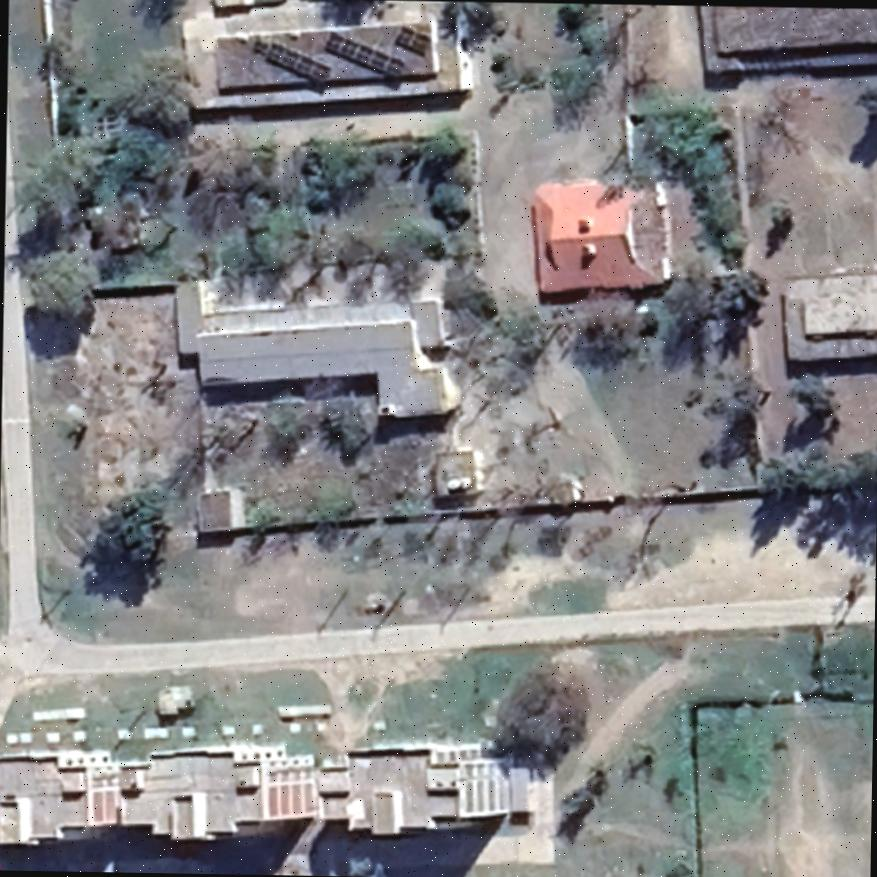Solarpanel: (245, 34, 331, 89), (320, 31, 407, 83), (391, 24, 433, 58)
